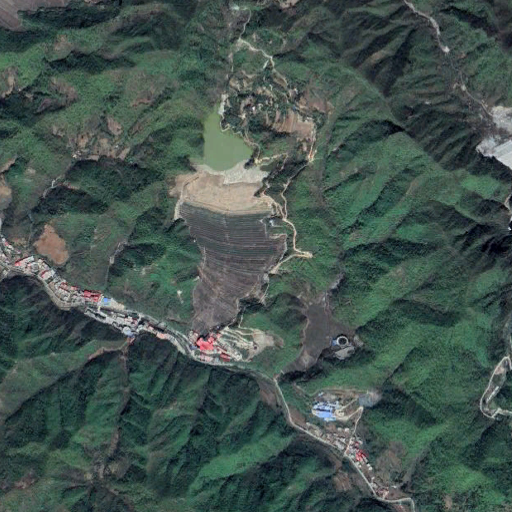tp: (187, 107, 303, 336)
